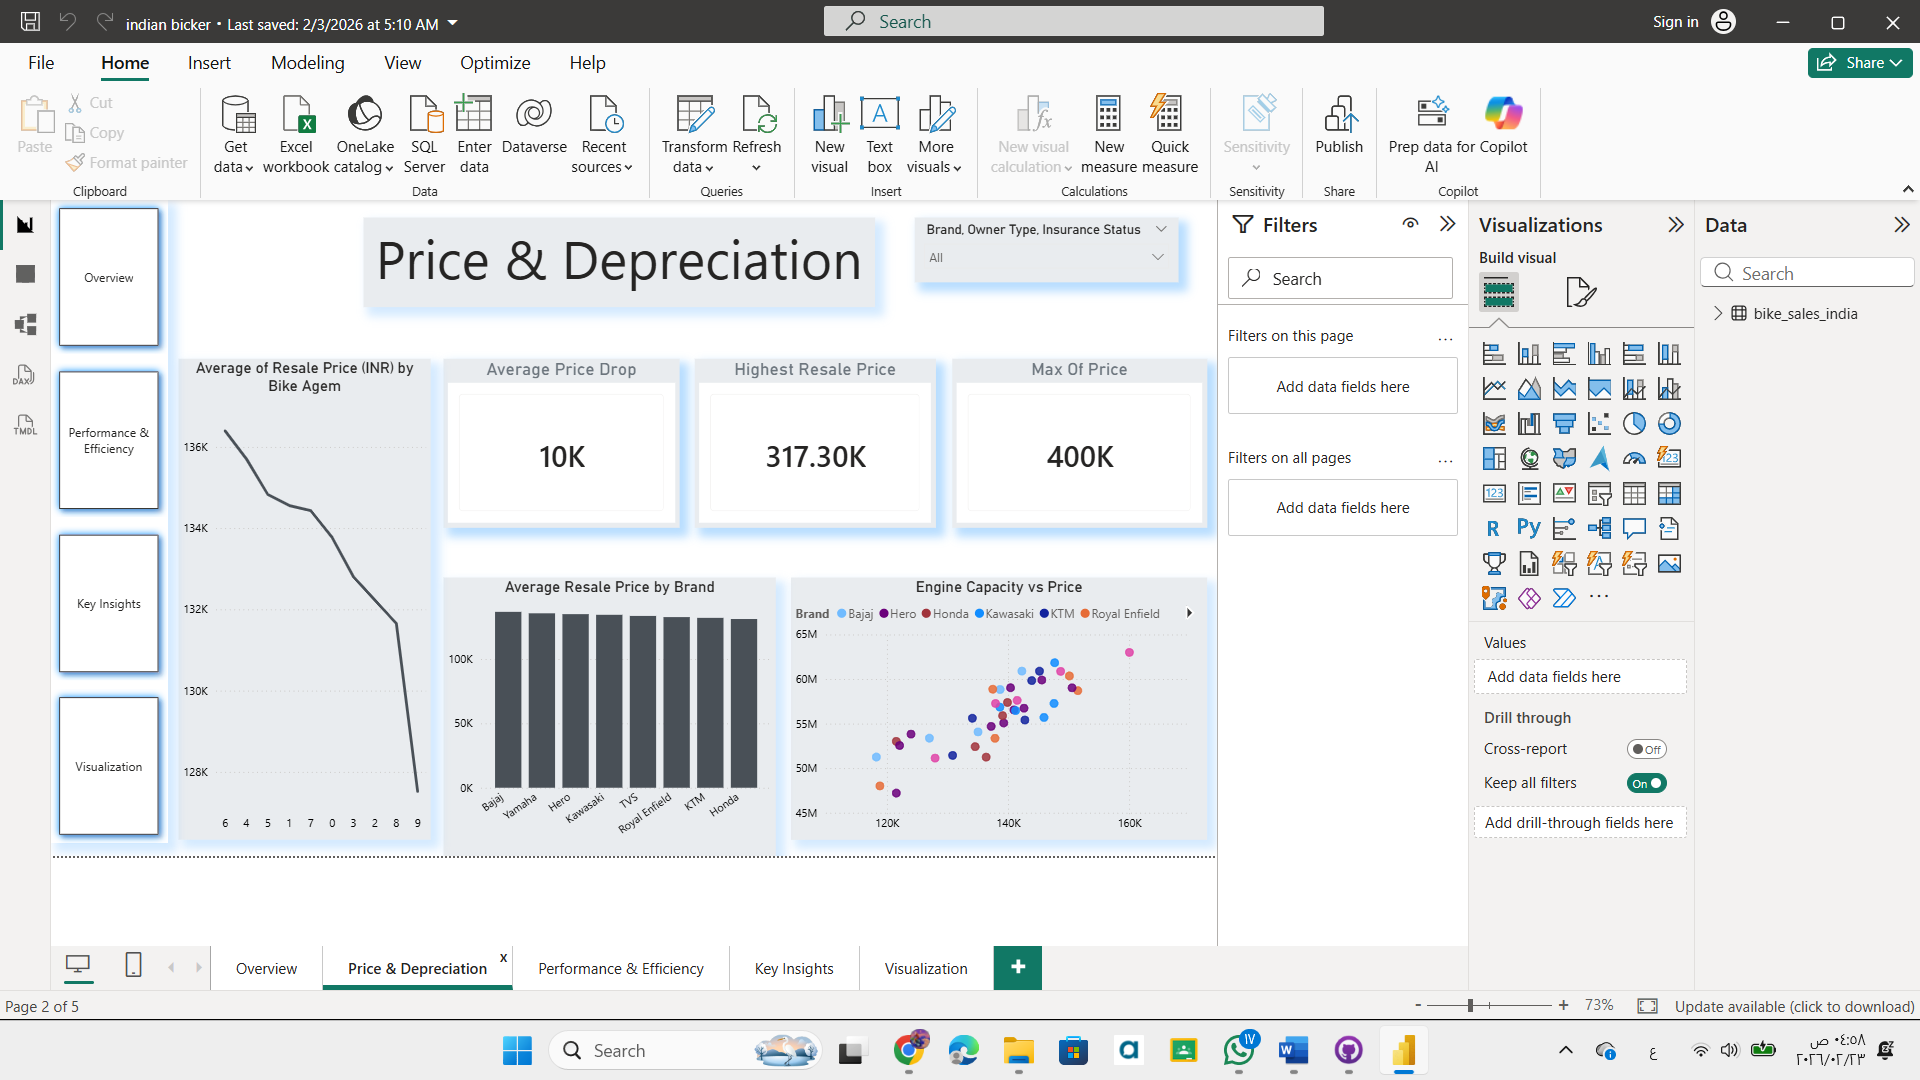

This screenshot's page, from the dashboard's own definition file:
{"tool":"powerbi","page":{"name":"Price & Depreciation","canvas":[1280,720],"ordinal":1},"visuals":[{"type":"textbox","box":[343.1,19.2,561.2,98.8],"z":0},{"type":"cardVisual","title":"Average Price Drop","fields":{"Data":["CountNonNull(bike_sales_india.Price Drop %)"]},"box":[430.9,174.3,259.3,185.2],"z":1000},{"type":"cardVisual","title":"Highest Resale Price","fields":{"Data":["Max(bike_sales_india.Resale Price (INR))"]},"box":[706.7,174.3,264.8,185.2],"z":2000},{"type":"cardVisual","title":"Max Of Price","fields":{"Data":["Max(bike_sales_india.Price (INR))"]},"box":[989.4,174.3,279.9,185.2],"z":3000},{"type":"scatterChart","title":"Engine Capacity vs Price","fields":{"X":["Sum(bike_sales_india.Engine Capacity (cc))"],"Y":["Sum(bike_sales_india.Price (INR))"],"Category":["bike_sales_india.Model"],"Series":["bike_sales_india.Brand"]},"box":[812.4,414.4,456.9,288.2],"z":4000},{"type":"columnChart","title":"Average Resale Price by Brand","fields":{"Category":["bike_sales_india.Brand"],"Y":["Avg(bike_sales_india.Resale Price (INR))"]},"box":[430.9,414.4,365,306],"z":5000},{"type":"lineChart","fields":{"Category":["bike_sales_india.Bike Agem"],"Y":["Avg(bike_sales_india.Resale Price (INR))"]},"box":[140,174.3,277.2,528.3],"z":6000},{"type":"slicer","fields":{"Values":["bike_sales_india.Brand","bike_sales_india.Owner Type","bike_sales_india.Insurance Status"]},"box":[948.2,19.2,289.5,71.4],"z":7000},{"type":"pageNavigator","box":[0,0,127.6,706.7],"z":7001}]}

Visuals, with their boxes on the page's 1280x720 design canvas (x1, y1, x2, y2). These are canvas units, not pixel positions in the 1920x1080 screenshot, which may show the page scaled, cropped or inside an application window:
textbox: (left=343, top=19, right=904, bottom=118)
"Average Price Drop" cardVisual: (left=431, top=174, right=690, bottom=360)
"Highest Resale Price" cardVisual: (left=707, top=174, right=972, bottom=360)
"Max Of Price" cardVisual: (left=989, top=174, right=1269, bottom=360)
"Engine Capacity vs Price" scatterChart: (left=812, top=414, right=1269, bottom=703)
"Average Resale Price by Brand" columnChart: (left=431, top=414, right=796, bottom=720)
lineChart - bike_sales_india.Bike Agem x Avg(bike_sales_india.Resale Price (INR)): (left=140, top=174, right=417, bottom=703)
slicer - bike_sales_india.Brand x bike_sales_india.Owner Type: (left=948, top=19, right=1238, bottom=91)
pageNavigator: (left=0, top=0, right=128, bottom=707)
